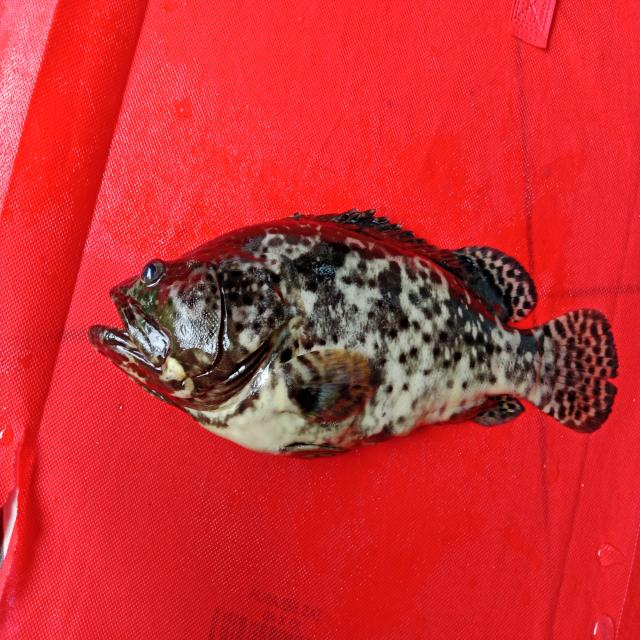ikan: (78, 197, 630, 472)
